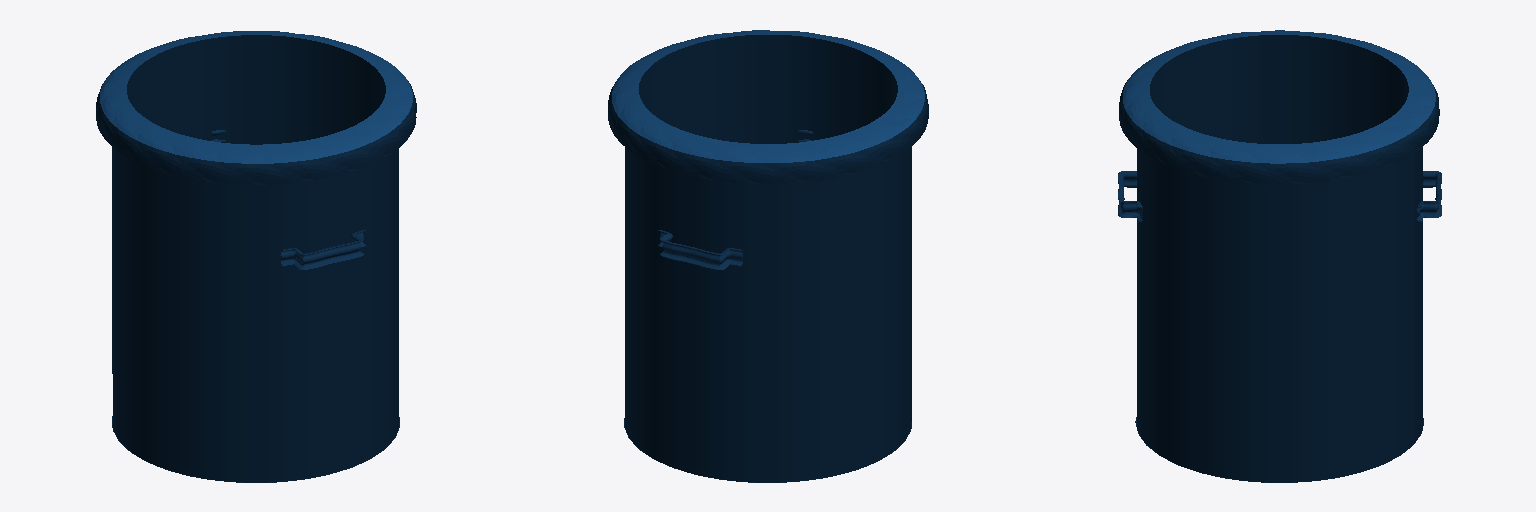
File: Lixeira.obj
3 renders of one model, left to right at view 1: azimuth 30°, elevation 25°; view 2: azimuth 150°, elevation 25°; view 3: azimuth 270°, elevation 25°, orthographic.
Visible parts, largest first — view 1: Mesh.001_Mesh.001_Circle, Mesh_Mesh_Mesh.002_Mesh_Me, Mesh.003_Mesh.002_Mesh.001_Mes; view 2: Mesh.001_Mesh.001_Circle, Mesh_Mesh_Mesh.002_Mesh_Me, Mesh.003_Mesh.002_Mesh.001_Mes; view 3: Mesh.001_Mesh.001_Circle, Mesh_Mesh_Mesh.002_Mesh_Me, Mesh.003_Mesh.002_Mesh.001_Mes.
Part boxes in pixels (x1,y1,x2,y2): Mesh.001_Mesh.001_Circle: (112, 35, 398, 482); Mesh_Mesh_Mesh.002_Mesh_Me: (96, 31, 416, 184); Mesh.003_Mesh.002_Mesh.001_Mes: (211, 130, 365, 269); Mesh.001_Mesh.001_Circle: (625, 35, 911, 482); Mesh_Mesh_Mesh.002_Mesh_Me: (608, 30, 928, 183); Mesh.003_Mesh.002_Mesh.001_Mes: (658, 130, 812, 269); Mesh.001_Mesh.001_Circle: (1137, 35, 1422, 482); Mesh_Mesh_Mesh.002_Mesh_Me: (1119, 30, 1439, 184); Mesh.003_Mesh.002_Mesh.001_Mes: (1118, 171, 1441, 222).
Bounding box in the file's own units: 1.14 × 1.31 × 1.16.